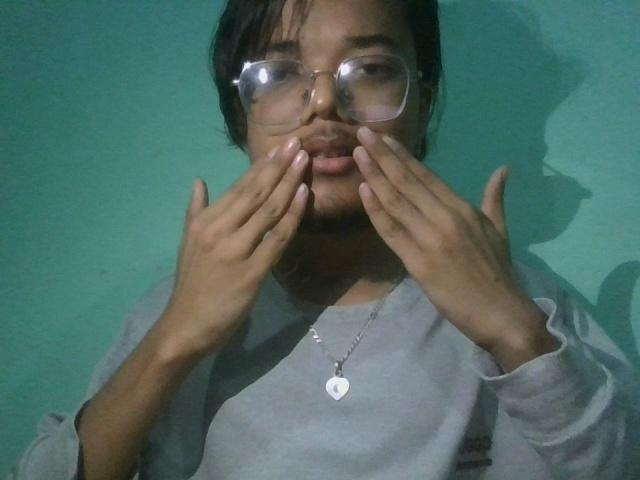Thank You: (104, 91, 562, 417)
